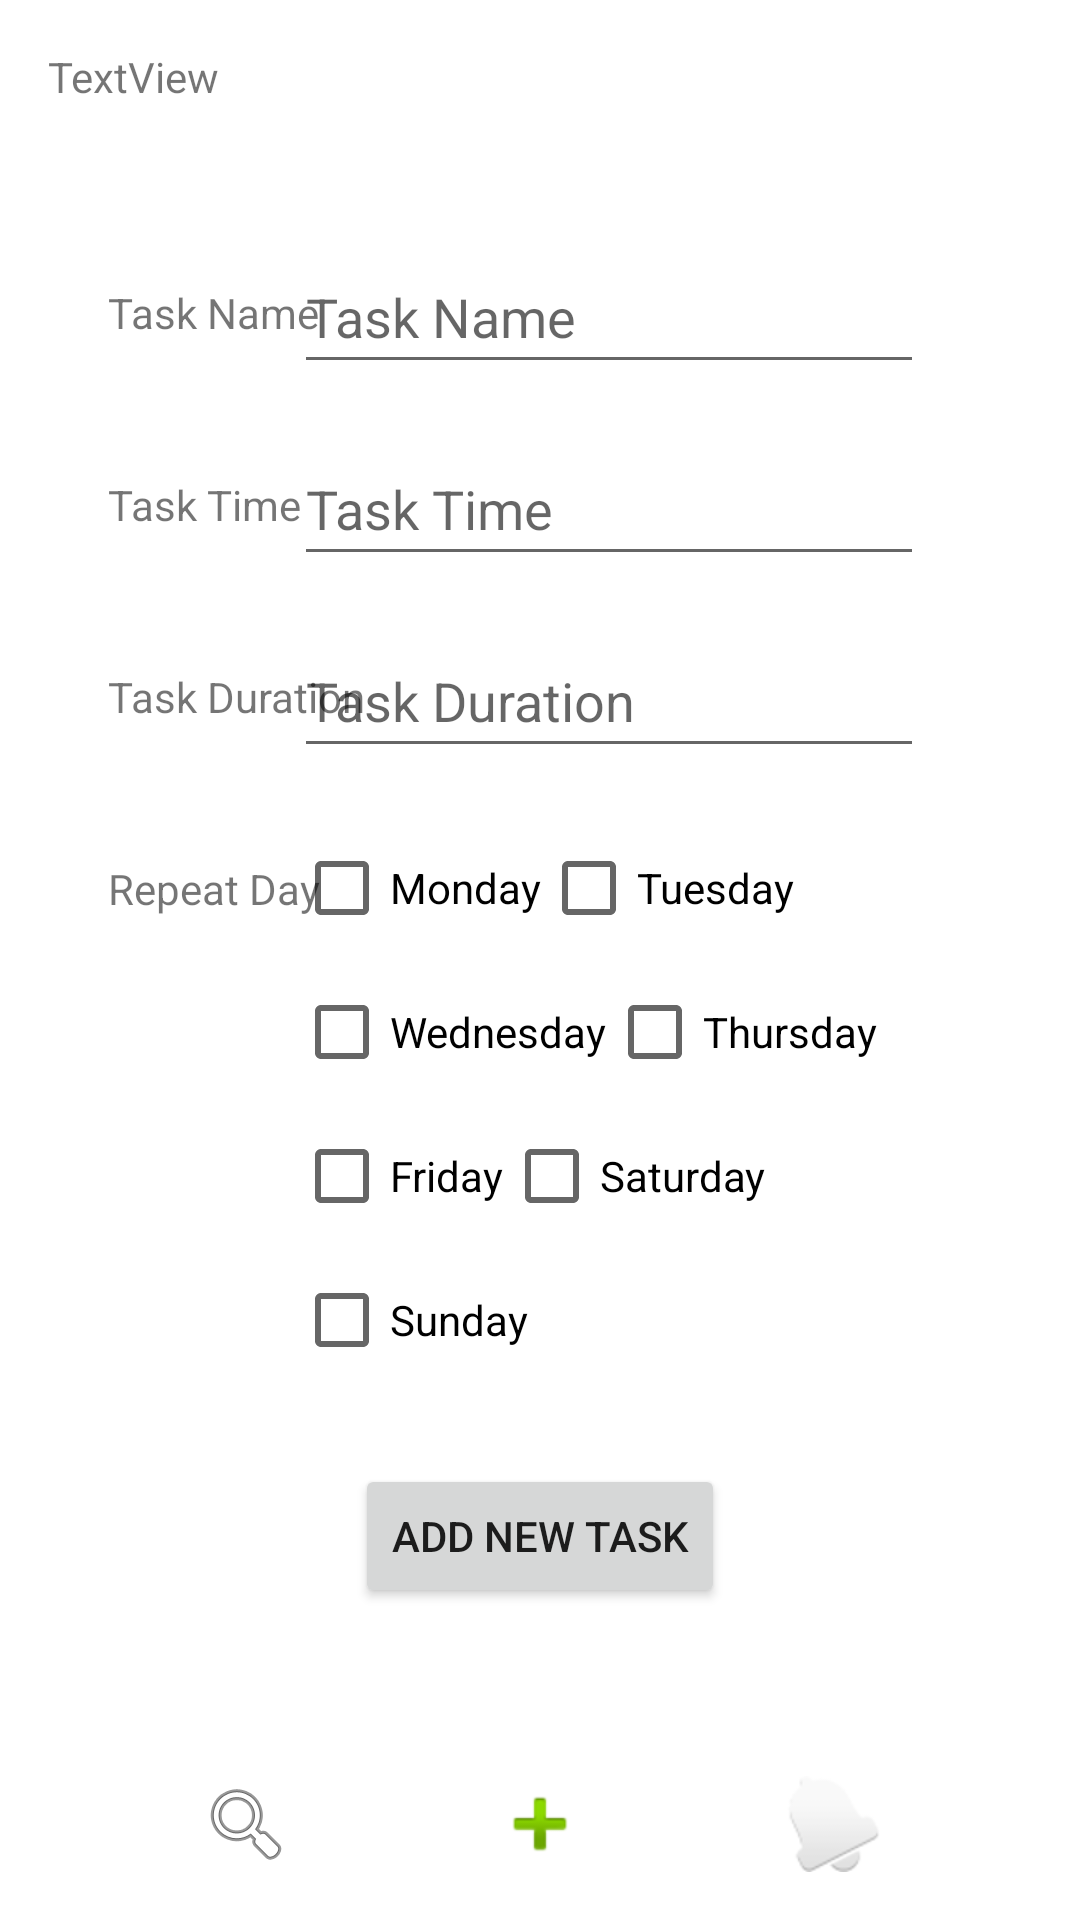

Icons on this 1080px×1920px Android screen, each with the point to tap as point (x, y):
add: point (540, 1824)
search: point (246, 1824)
